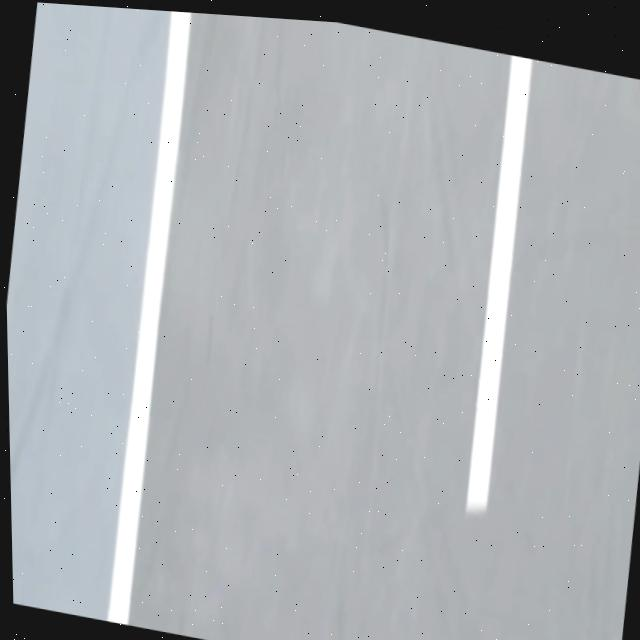center: (466, 55, 532, 513)
left: (107, 11, 190, 625)
